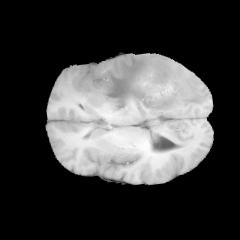glioma: (103, 54, 209, 114)
